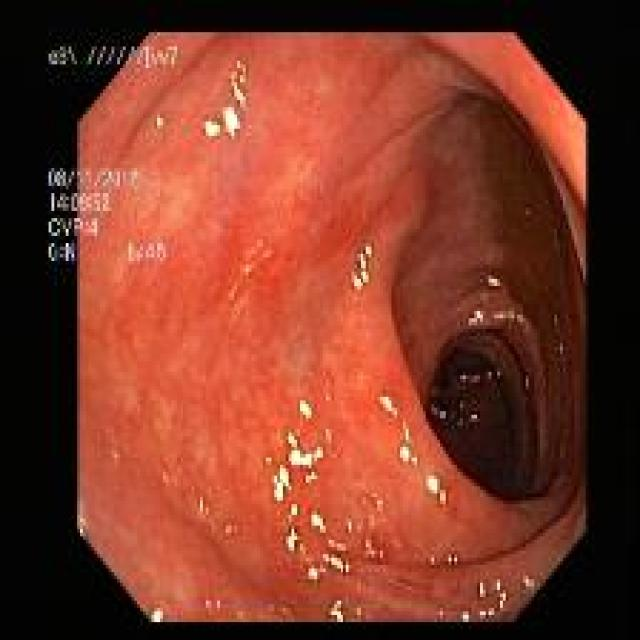ulcerative-colitis: (41, 31, 586, 626)
